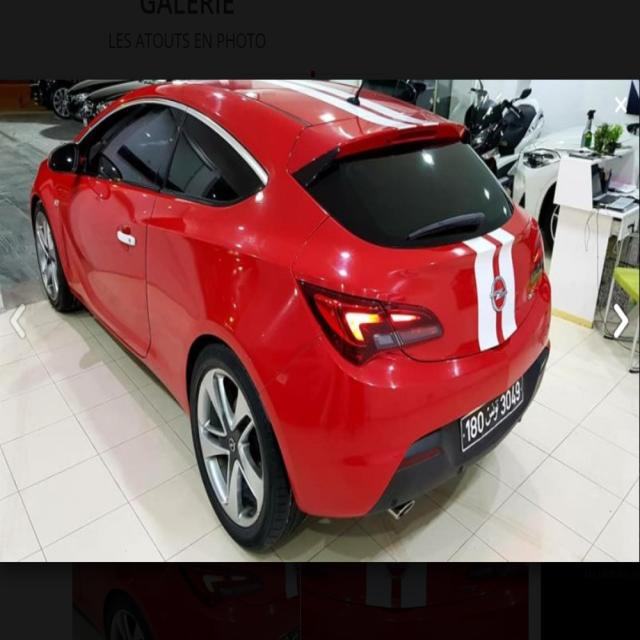LP: (457, 371, 527, 453)
